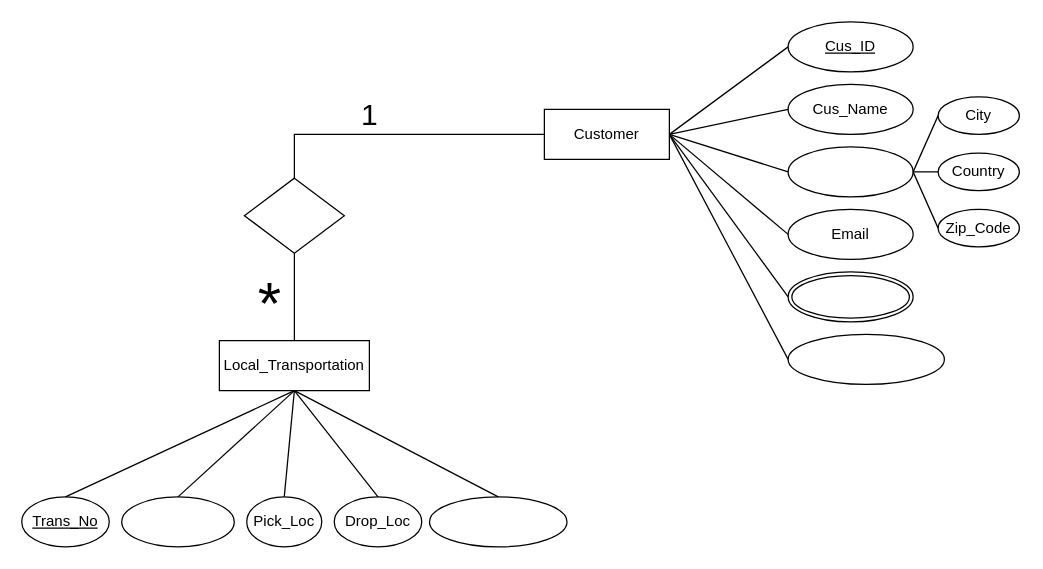
This 1043x569 diagram has some shape labels left out. Here are the shapes that lost their labels. From the top down, the centre of each, then its label:
point (850, 171): Address
point (293, 215): Uses
point (850, 296): Phone_No
point (865, 358): Membership_Level
point (177, 521): Booking_Date
point (497, 521): Mode_of_transport
